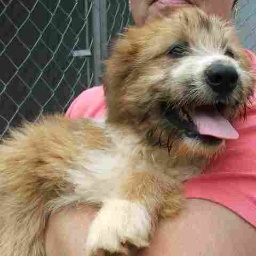dog: (2, 9, 251, 251)
